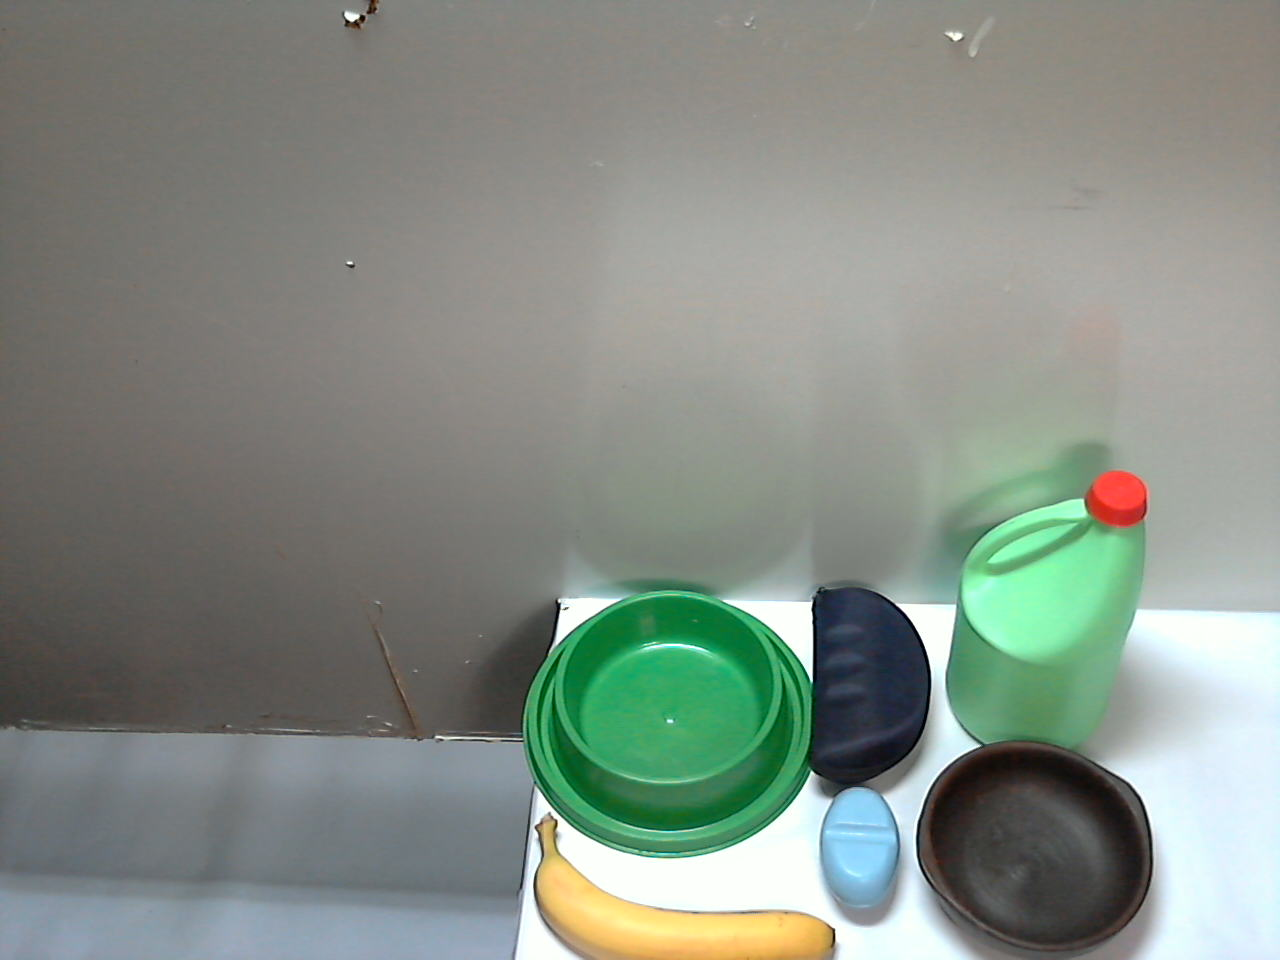esponja: (527, 825, 706, 960)
greda: (670, 661, 891, 859)
harina: (916, 578, 1104, 806)
jabon: (883, 810, 1019, 929)
jugoind: (460, 672, 558, 835)
papas: (546, 481, 680, 761)
